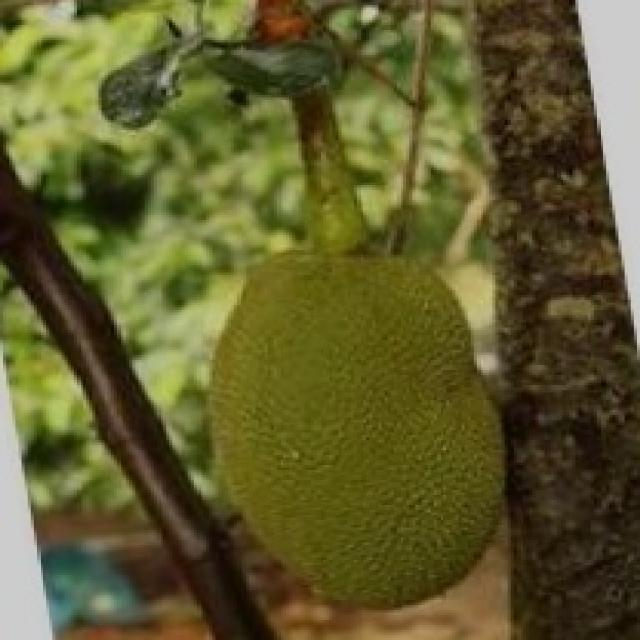Fruit: (170, 228, 538, 638)
